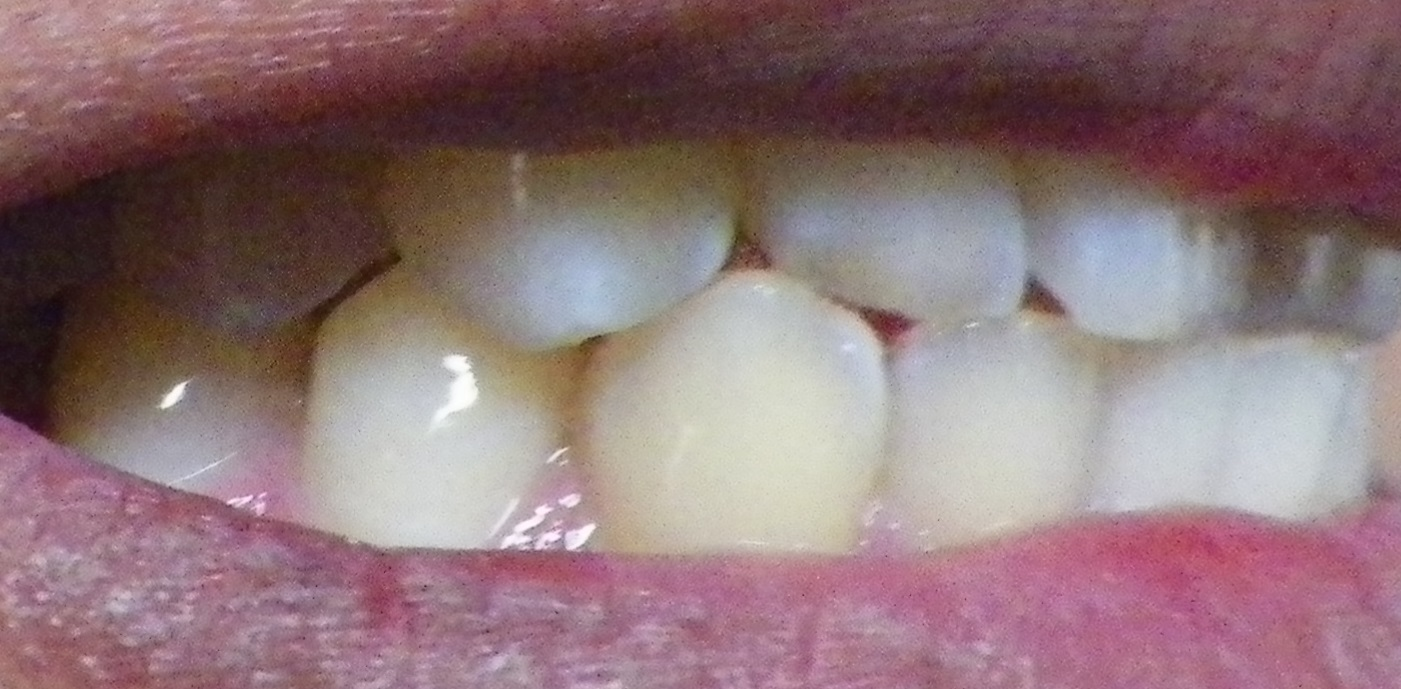boca: (80, 142, 1391, 547)
